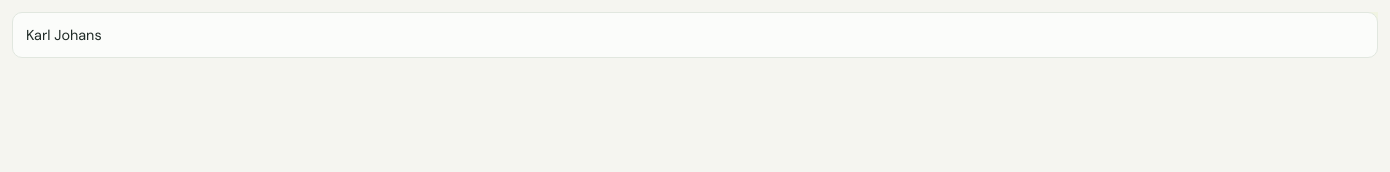
Test case: AddressAutocomplete › ignores an outdated response after the query changes
Later steps or results of the test are not shown.
Click the field with placeholder "Skriv gate eller sted, f.eks. Karl Johans gate". click: [695, 35]
box: [12,12,1378,58]
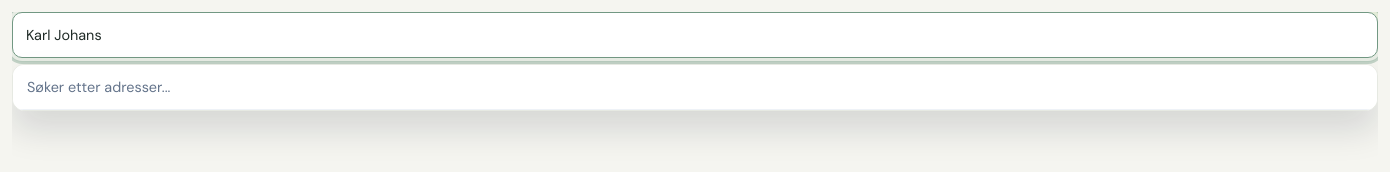
Check: the text "Søker etter adresser..." is shown, box [13,65,1377,110]
